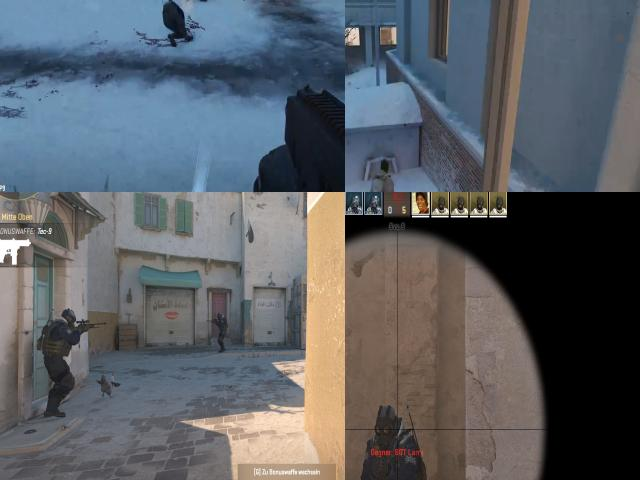CT: (364, 404, 432, 480), (47, 309, 76, 417), (214, 311, 228, 354)
CT-Head: (377, 407, 397, 442), (63, 309, 75, 326), (216, 313, 222, 319)
T: (158, 0, 193, 36), (368, 166, 399, 192)
T-Head: (376, 158, 391, 179)
